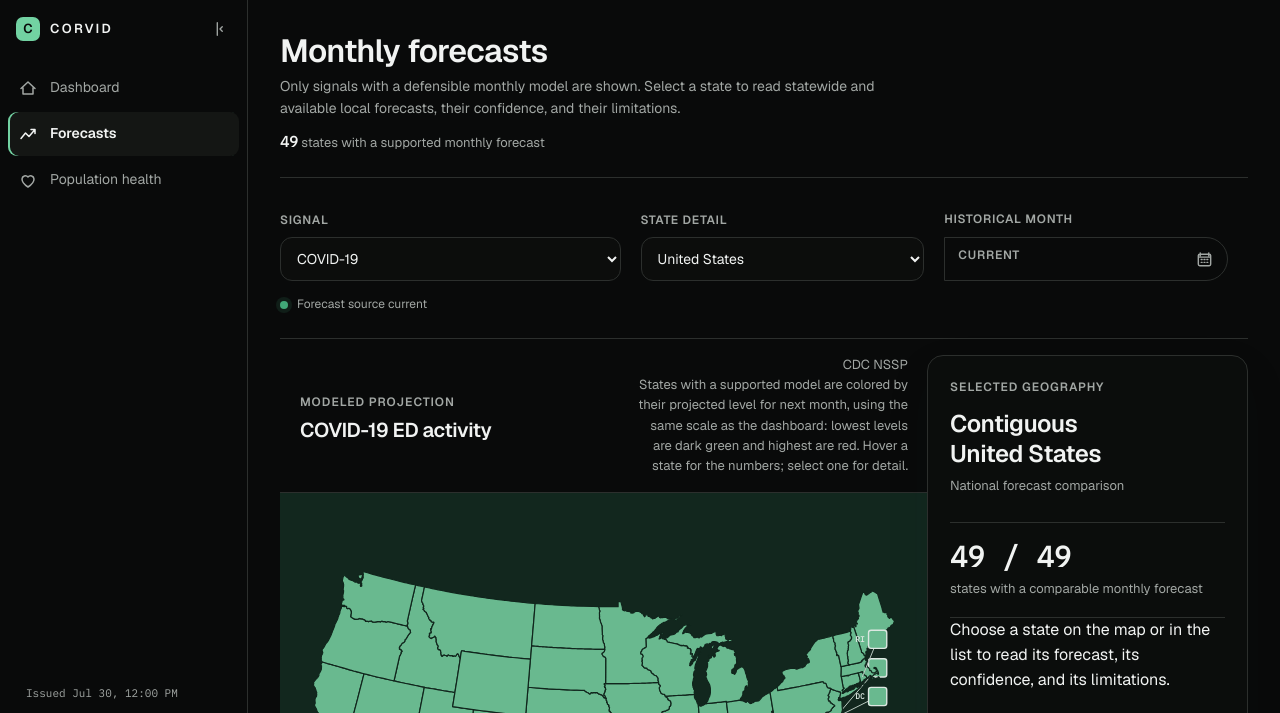
Test: ForecastsPage (monthly state-level, supported only) › reuses the same cached forecast across signal changes back to a prior signal
Select "Influenza" in the dropdown named "Forecast signal" at [450, 259], box [280,237,620,281]
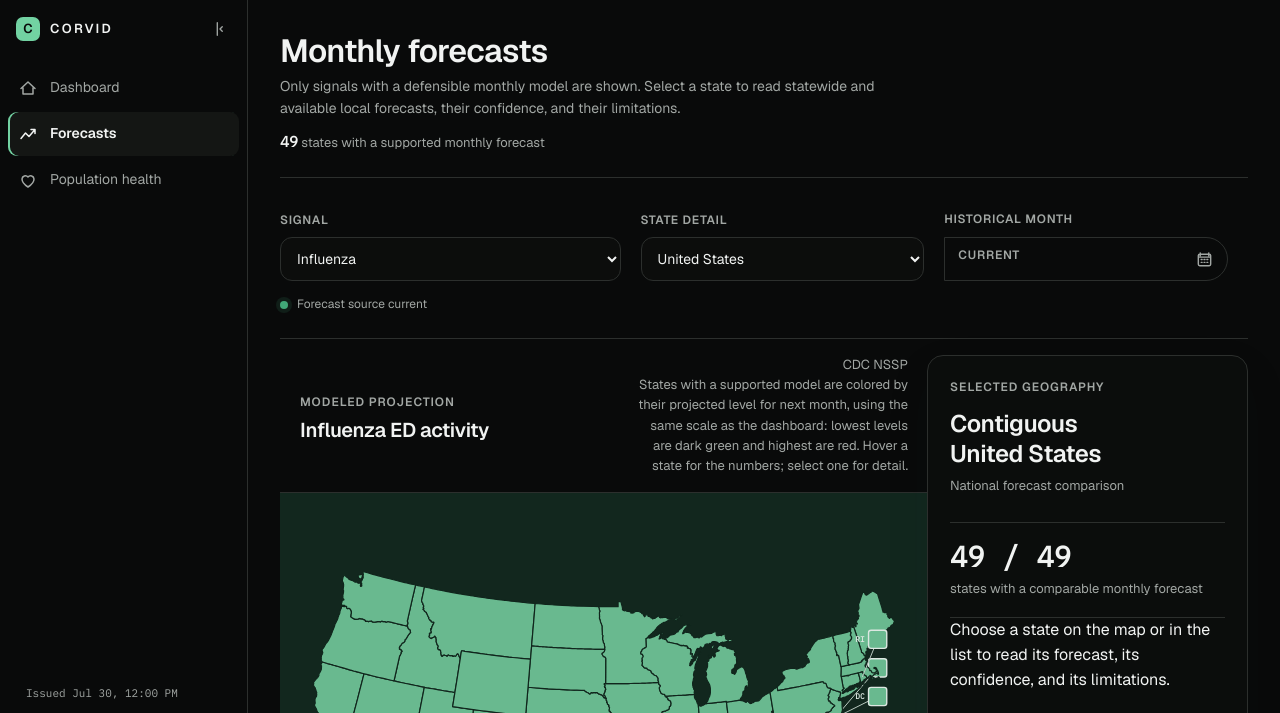
Result: the heading "Influenza ED activity" is shown at [300,418,489,443]
Select "COVID-19" in the dropdown named "Forecast signal" at [450, 259], box [280,237,620,281]
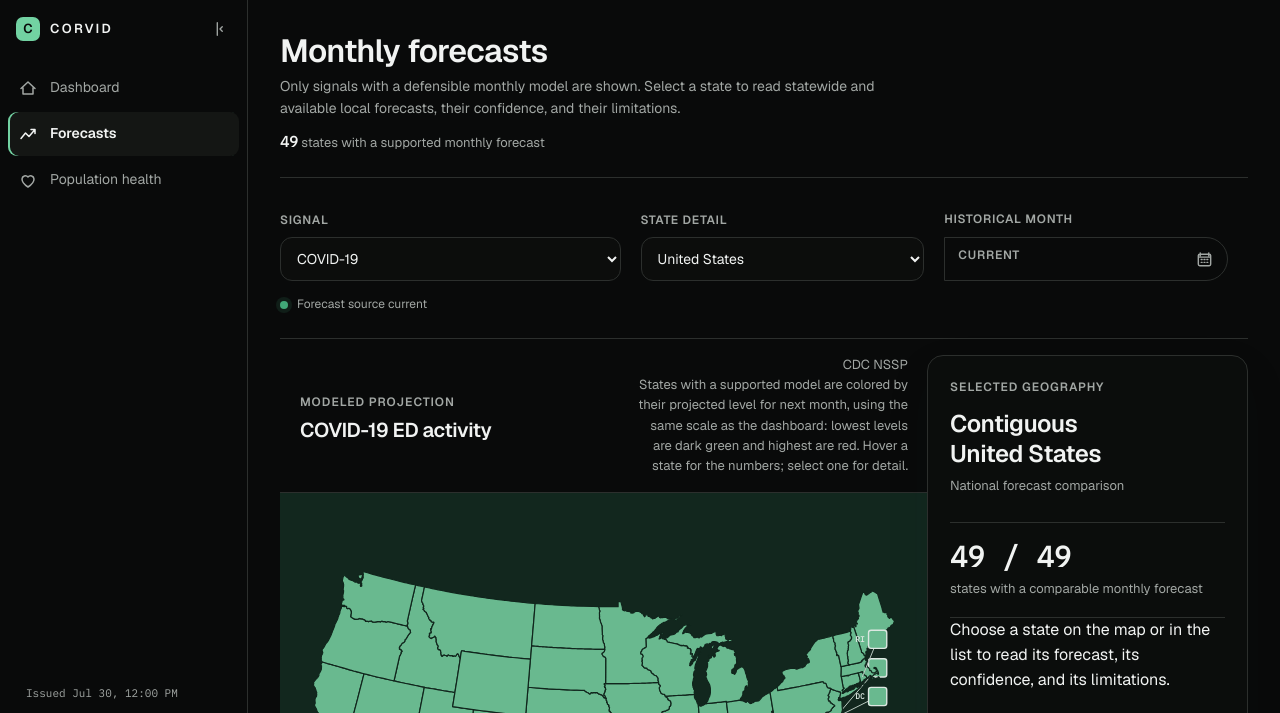
Result: the heading "COVID-19 ED activity" is shown at [300,418,492,443]
